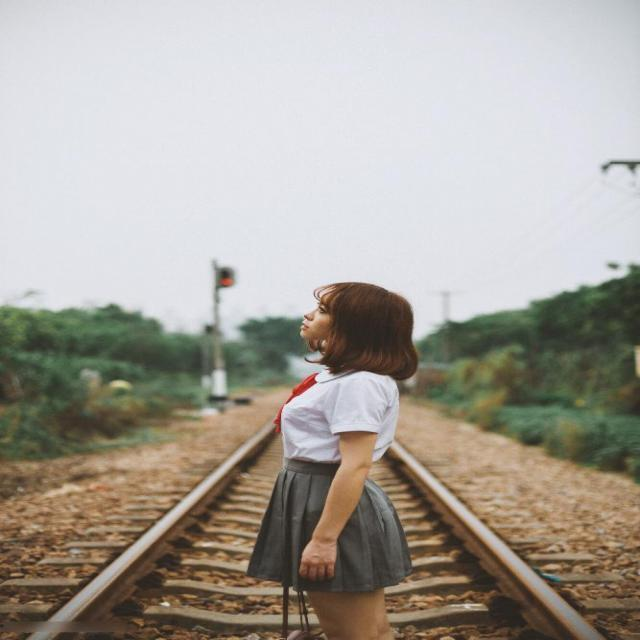Manusia: (157, 258, 455, 640)
